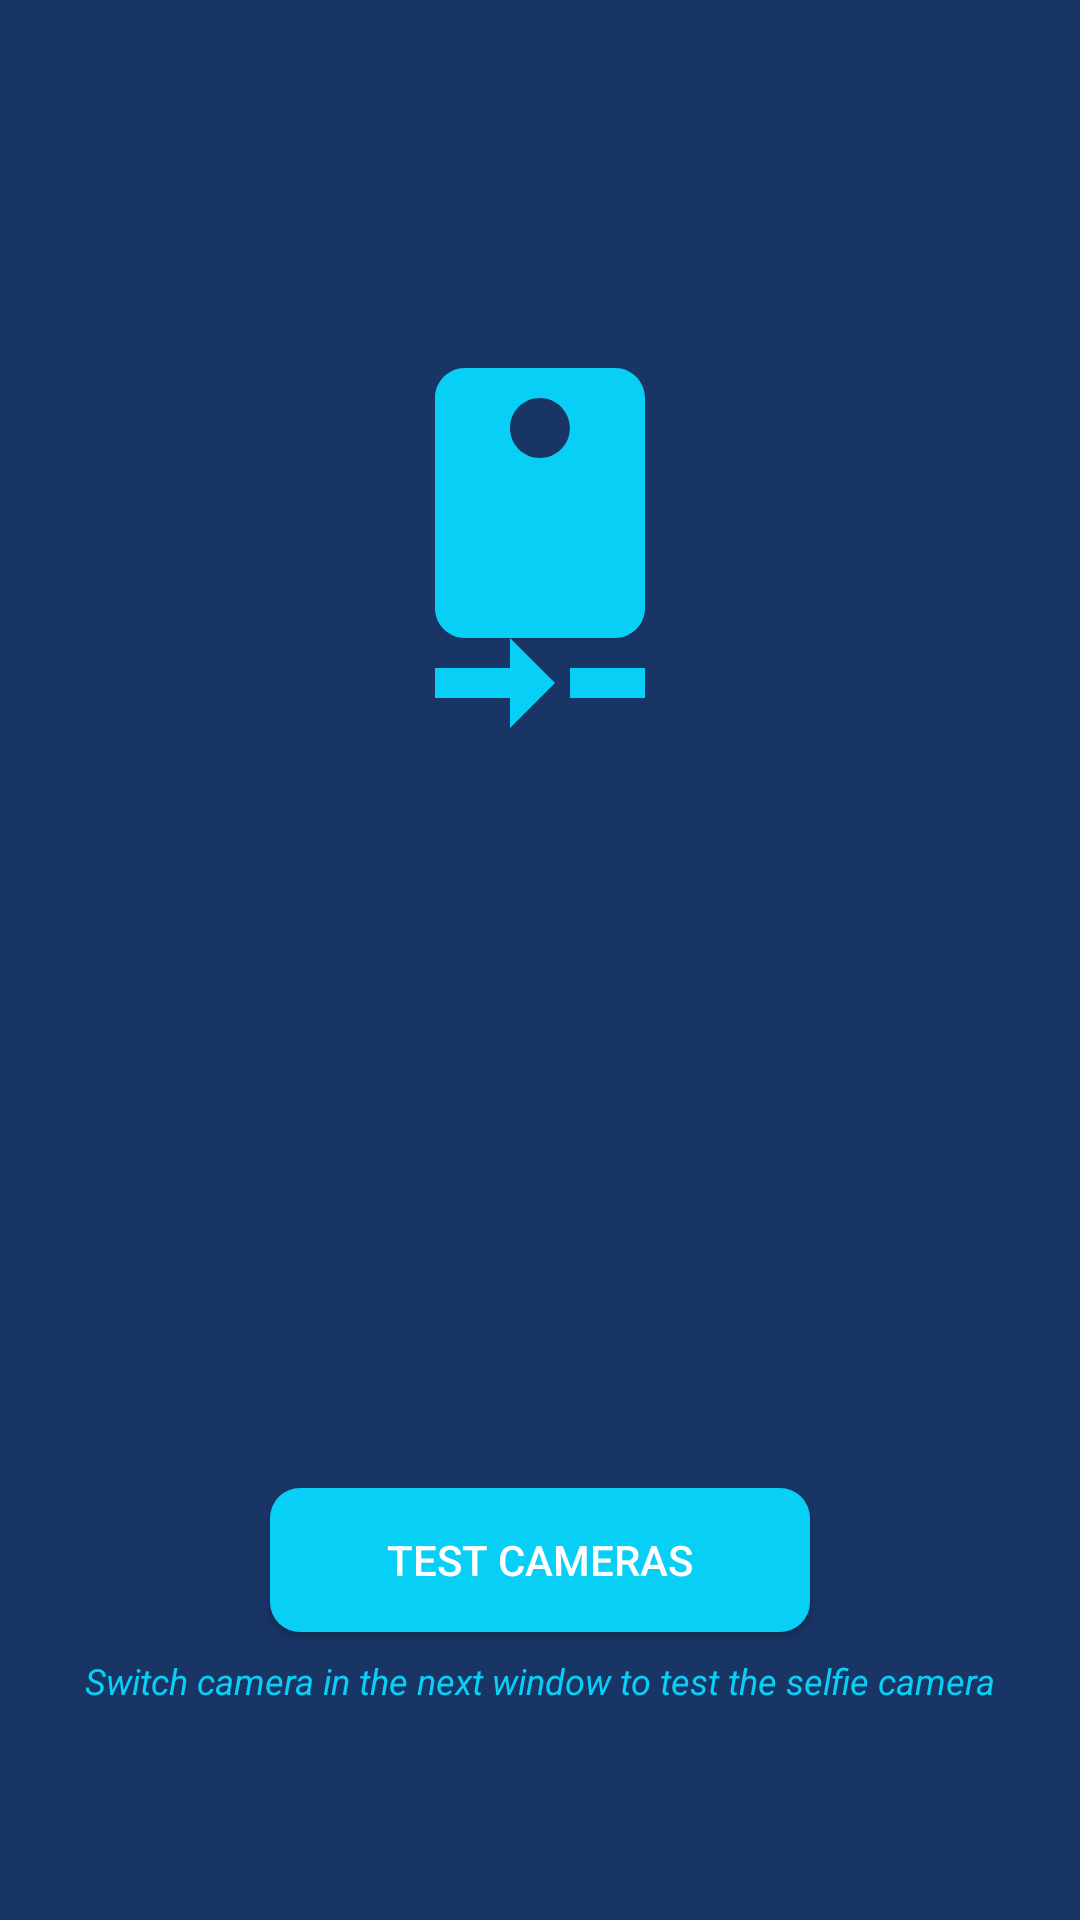

Named icons in this screenshot (1080px×1920px) and their centers, (x=x, y=y):
camera back: (x=540, y=548)
